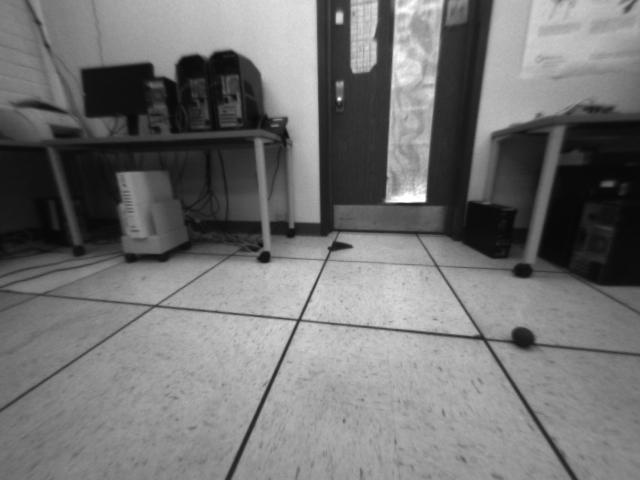dogtoy: (507, 318, 544, 351)
